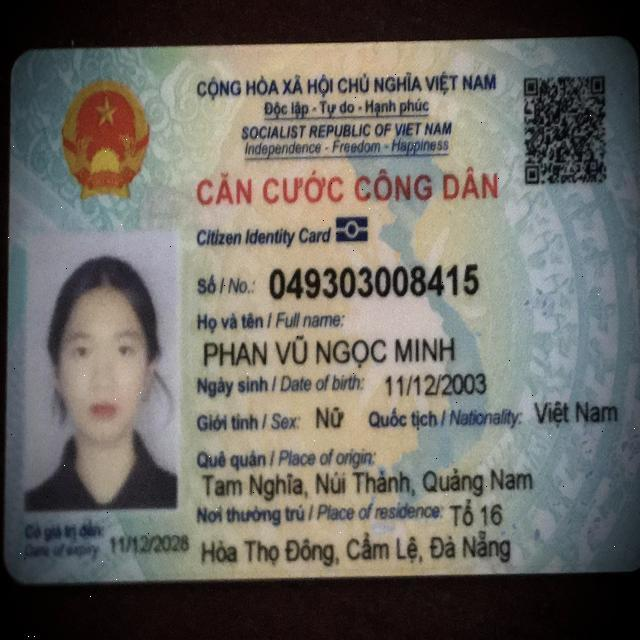current_place: (198, 529, 512, 569), (448, 499, 504, 530)
dob: (385, 369, 488, 400)
expire_date: (107, 530, 191, 556)
gender: (314, 403, 346, 432)
id: (267, 259, 483, 303)
name: (201, 332, 457, 370)
nationality: (531, 398, 619, 430)
origin_place: (199, 466, 535, 500)
qr: (518, 63, 609, 195)
